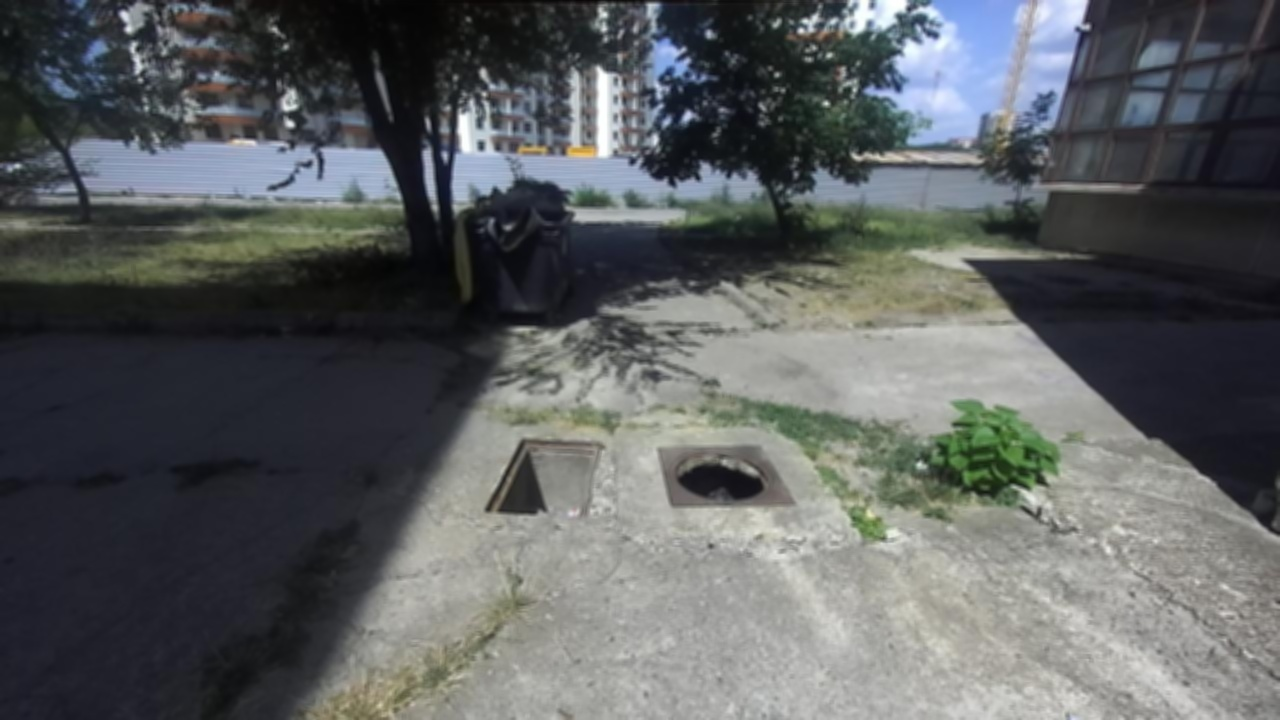drain: (484, 434, 608, 519), (671, 448, 775, 503)
